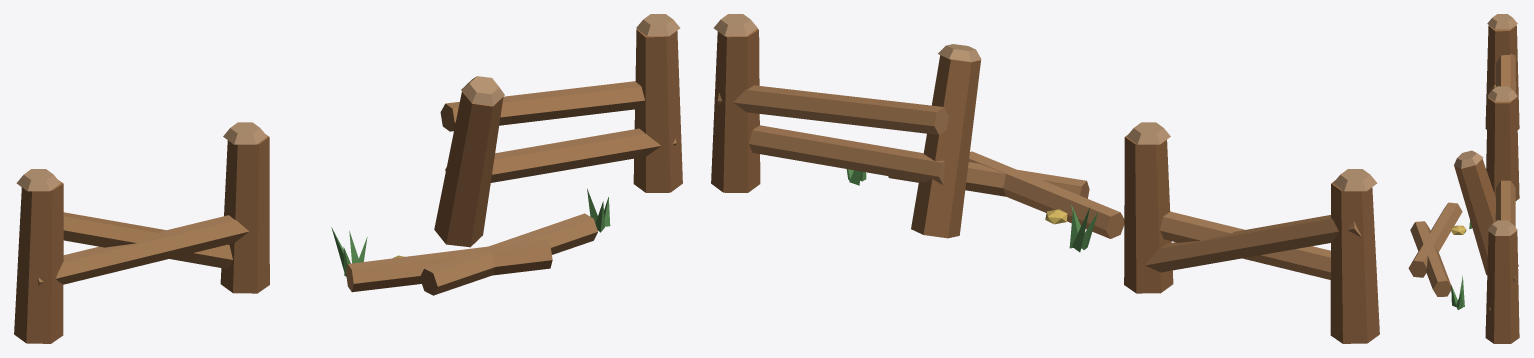
File: ranch_border_fence_broken.fbx
3 renders of one model, left to right at view 1: azimuth 30°, elevation 25°; view 2: azimuth 150°, elevation 25°; view 3: azimuth 270°, elevation 25°, orthographic. The views are drawn at different scales.
Parts seen in each view (by area): view 1: ranch_border_fence_broken; view 2: ranch_border_fence_broken; view 3: ranch_border_fence_broken.
Part boxes in pixels (x1,y1,x2,y2): ranch_border_fence_broken: [14, 14, 682, 343]; ranch_border_fence_broken: [711, 14, 1379, 343]; ranch_border_fence_broken: [1408, 14, 1519, 343].
Bounding box in the file's own units: 19.07 × 4.89 × 4.04.
